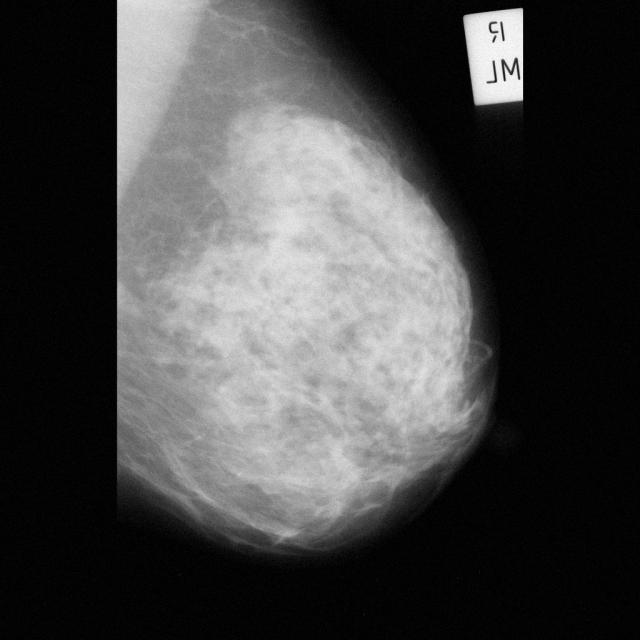ARCH: (105, 283, 134, 311)
